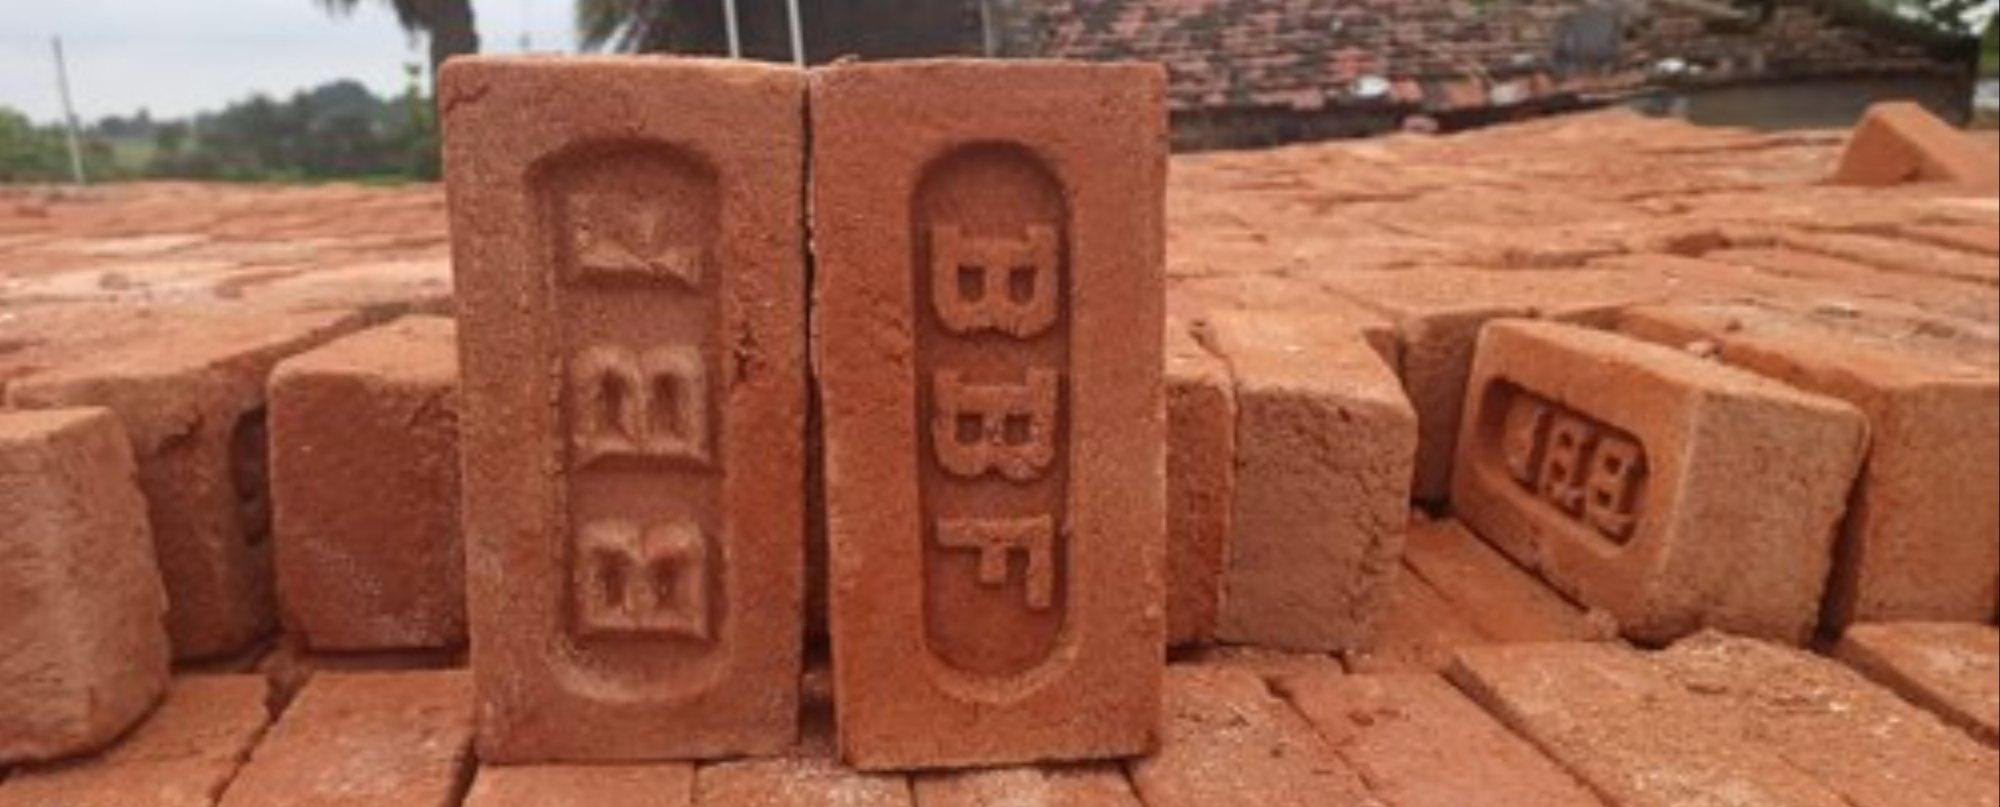brick: (443, 60, 810, 765), (818, 60, 1165, 778), (1651, 385, 1867, 632), (1216, 390, 1412, 653), (270, 375, 455, 653), (1867, 385, 1995, 625), (5, 432, 70, 755), (1157, 375, 1230, 658)
